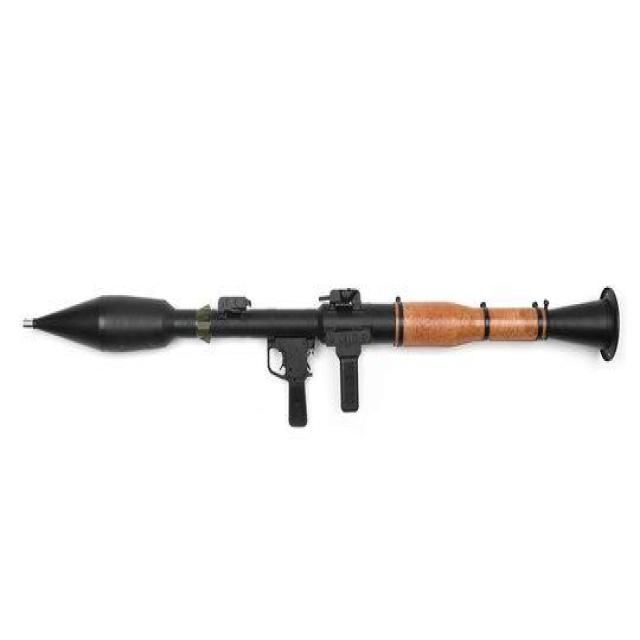weapon: (16, 242, 624, 444)
